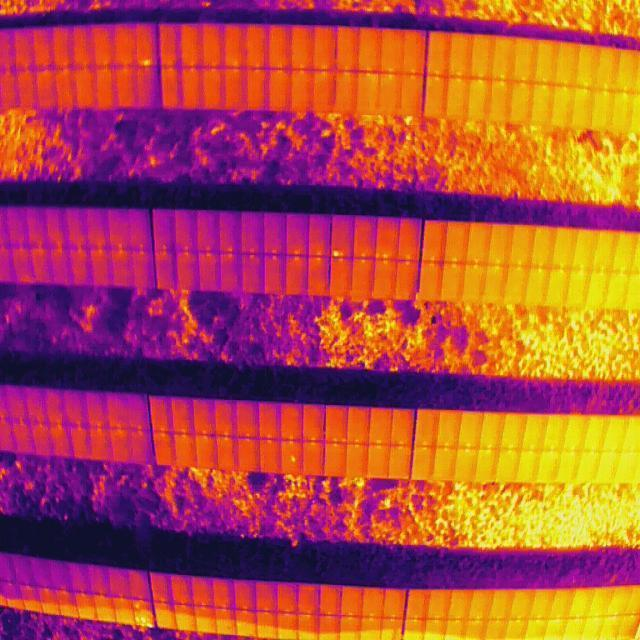hotspot: (132, 600, 154, 628), (288, 452, 298, 466), (141, 58, 153, 68)
